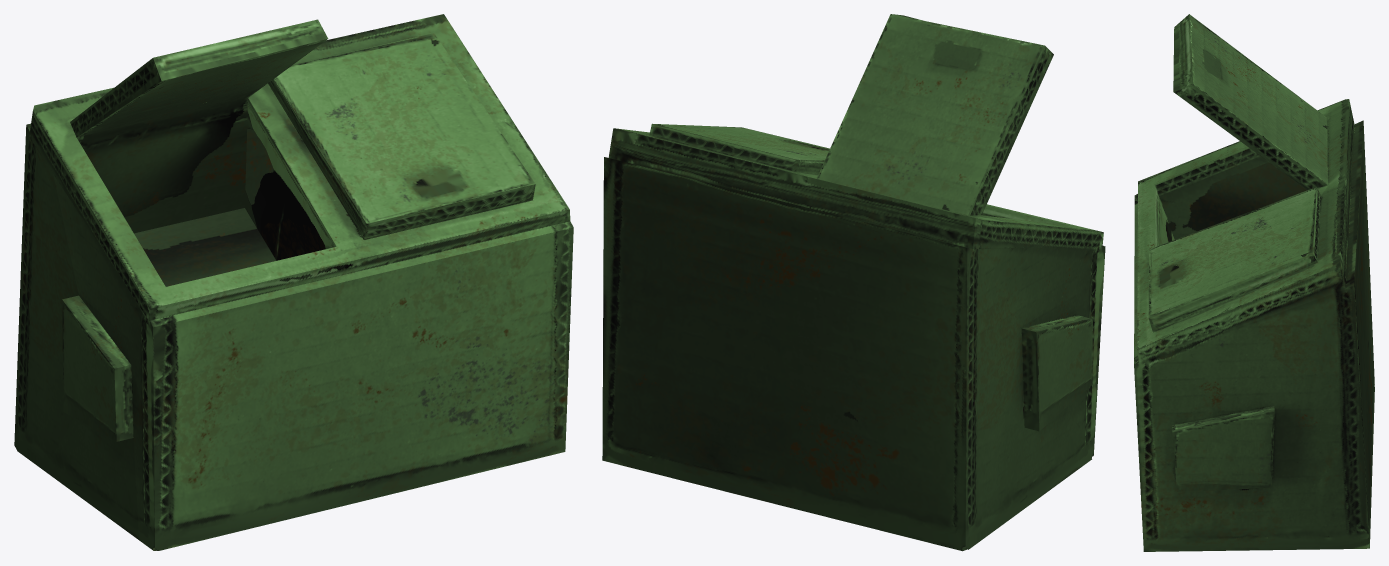
File: container.fbx
3 views of the same model, side by side, from view 1: azimuth 30°, elevation 25°; view 2: azimuth 150°, elevation 25°; view 3: azimuth 270°, elevation 25° (orthographic). The views are drawn at different scales.
Parts seen in each view (by area): view 1: Cube; view 2: Cube; view 3: Cube.
Boxes of the visible parts, <box> form: Cube: <box>14,14,573,550</box>; Cube: <box>602,14,1105,551</box>; Cube: <box>1134,14,1374,551</box>.
Size of the model in its own units: 58.37 by 58.25 by 33.13.
1 material, 1 textured.
